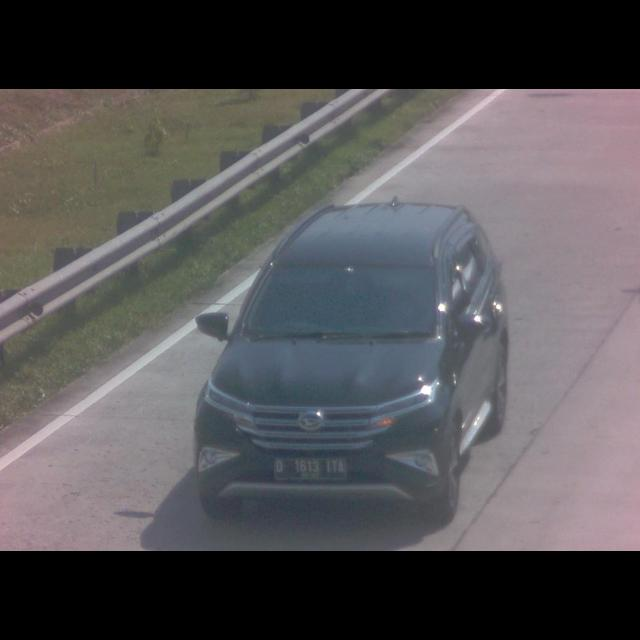plate: (271, 457, 347, 483)
